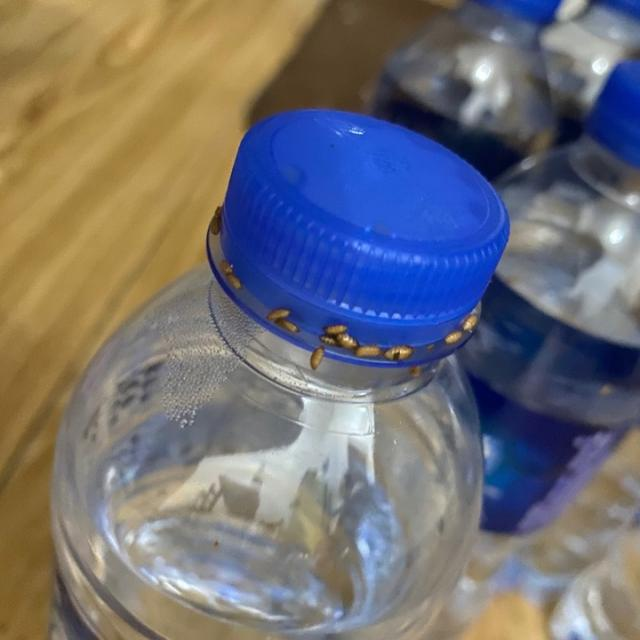plastic: (51, 104, 511, 640)
